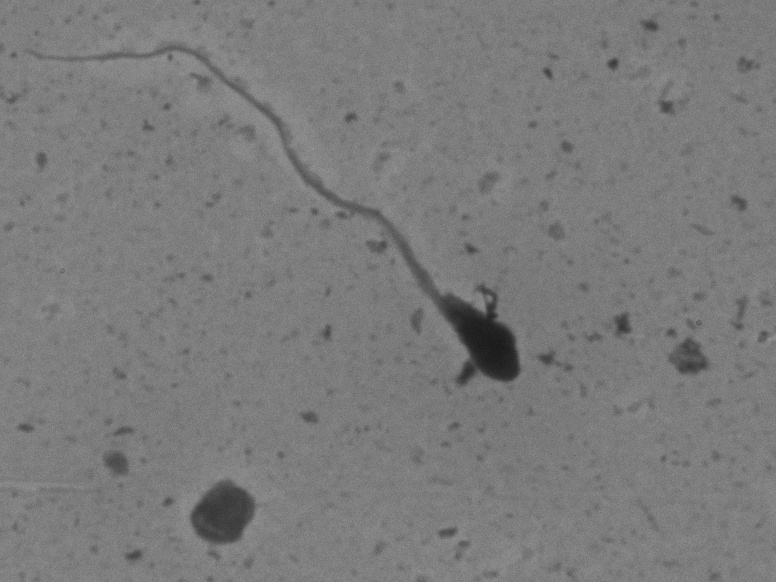Abnormal: (17, 27, 580, 438)
